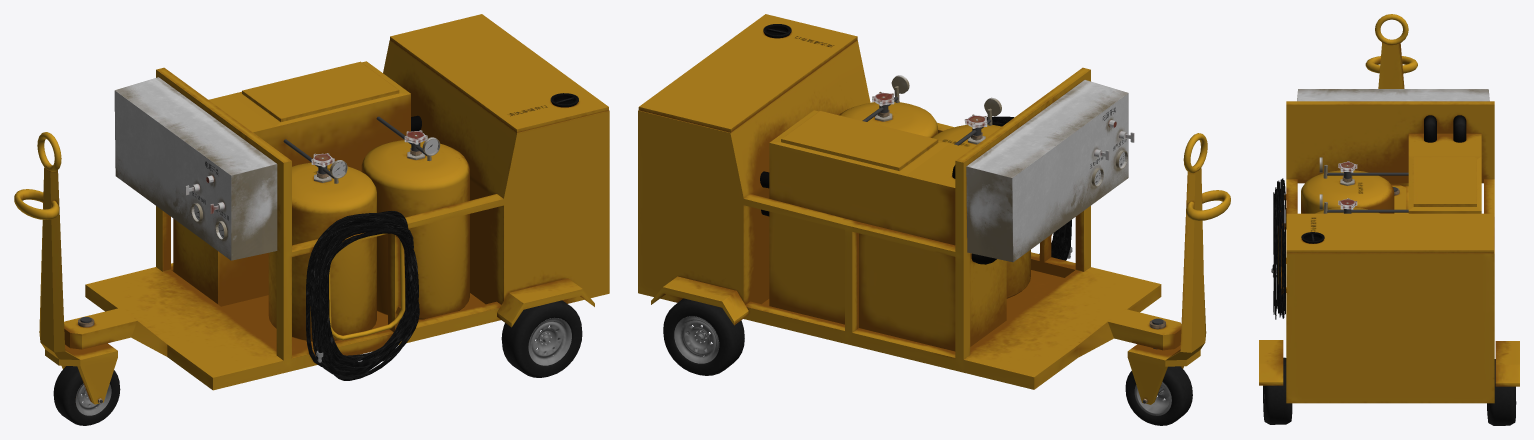
File: Mod_Cleaning_truck.fbx
3 renders of one model, left to right at view 1: azimuth 30°, elevation 25°; view 2: azimuth 150°, elevation 25°; view 3: azimuth 270°, elevation 25°, orthographic. The views are drawn at different scales.
Visible parts, largest first — view 1: Mod_Cleaning_truck_; view 2: Mod_Cleaning_truck_; view 3: Mod_Cleaning_truck_.
Part boxes in pixels (x1,y1,x2,y2): Mod_Cleaning_truck_: (14,14,609,425); Mod_Cleaning_truck_: (638,14,1230,425); Mod_Cleaning_truck_: (1259,14,1519,425).
Size of the model in its own units: 382 by 207 by 201.
1 material, 1 textured.
